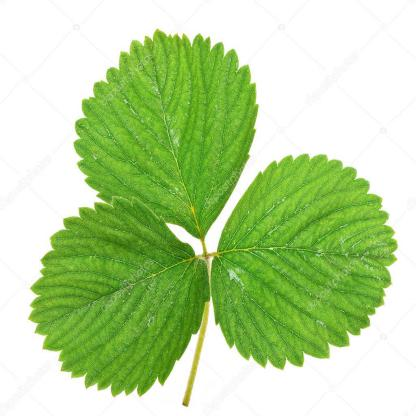strawberry leaf: (208, 132, 398, 378), (19, 196, 240, 395), (73, 26, 261, 242)
